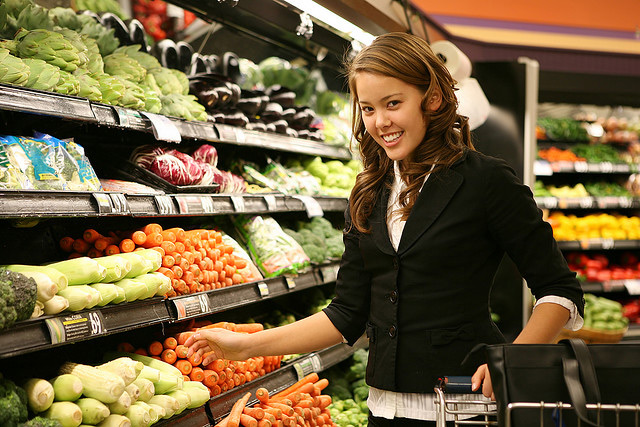Age_20_30: (351, 54, 454, 163)
E_White: (351, 54, 454, 163)
Emotion_Happy: (351, 54, 454, 163)
G_ Female: (351, 54, 454, 163)
